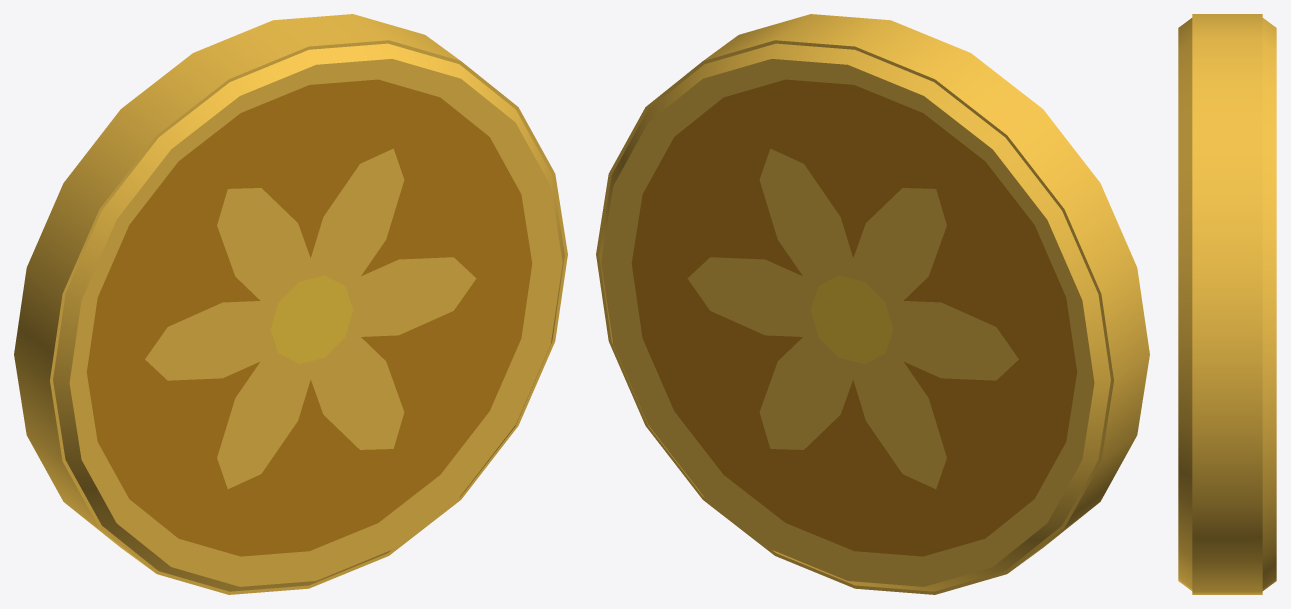
The model's file is sikka.glb.
3 views of the same model, side by side, from view 1: azimuth 30°, elevation 25°; view 2: azimuth 150°, elevation 25°; view 3: azimuth 270°, elevation 25° (orthographic). The views are drawn at different scales.
Parts seen in each view (by area): view 1: sikka; view 2: sikka; view 3: sikka.
Boxes of the visible parts, bbox=[...] form: sikka: bbox=[14, 14, 567, 594]; sikka: bbox=[596, 14, 1149, 594]; sikka: bbox=[1178, 14, 1276, 594].
Size of the model in its own units: 0.5 by 0.5 by 0.084.
1 material, 1 textured.
